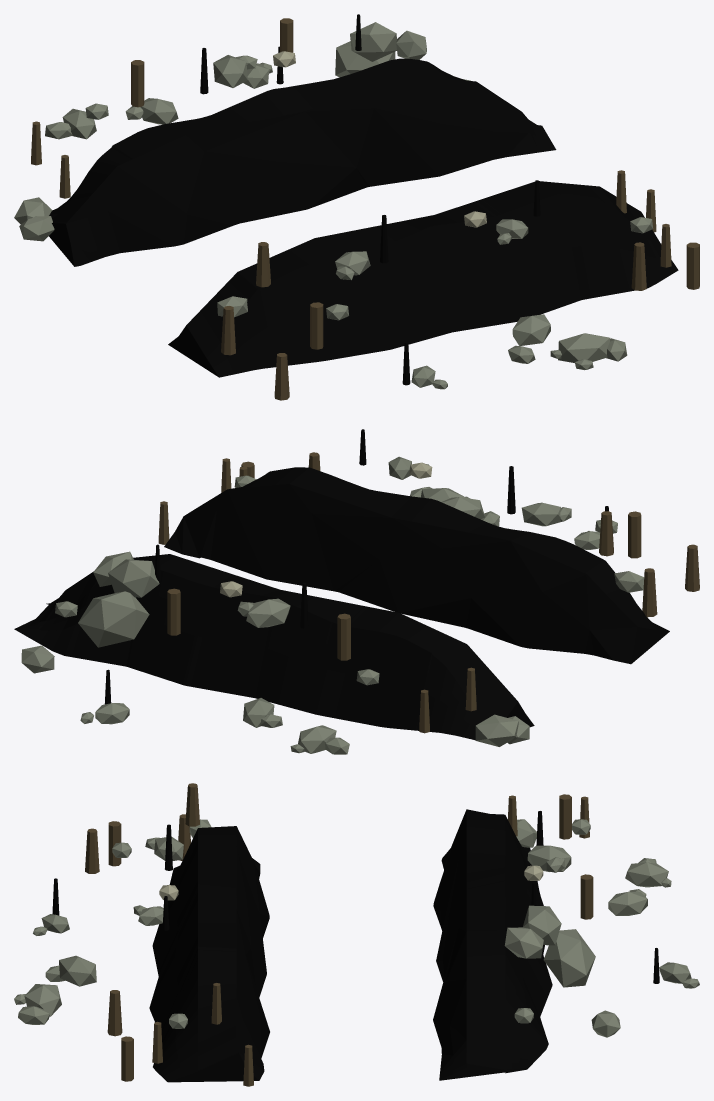
Rendered from path_cliff_passage_solid_props.fbx.
The picture shows the model from 3 angles, top to bottom: view 1: azimuth 30°, elevation 25°; view 2: azimuth 150°, elevation 25°; view 3: azimuth 270°, elevation 25°; orthographic projection. The views are drawn at different scales.
Parts seen in each view (by area): view 1: chunk_path_cliff_passage__PropsSolid; view 2: chunk_path_cliff_passage__PropsSolid; view 3: chunk_path_cliff_passage__PropsSolid.
Part boxes in pixels (x1,y1,x2,y2): chunk_path_cliff_passage__PropsSolid: (14,14,699,400); chunk_path_cliff_passage__PropsSolid: (14,429,699,754); chunk_path_cliff_passage__PropsSolid: (14,783,699,1086).
Bounding box in the file's own units: 176 × 51.82 × 218.
